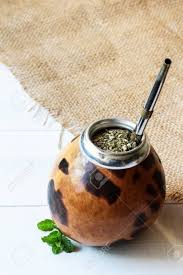guampa: (35, 54, 172, 247)
